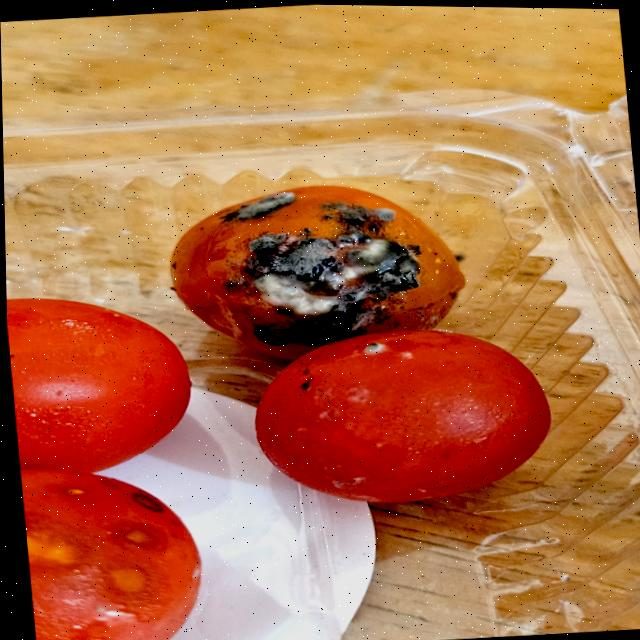rot_lvl1: (24, 515, 87, 582), (94, 557, 167, 601), (104, 519, 170, 555), (319, 458, 371, 489), (61, 485, 92, 497)
rot_lvl2: (219, 200, 423, 346), (216, 188, 294, 221), (128, 492, 167, 514), (295, 366, 319, 390), (359, 342, 388, 358)
